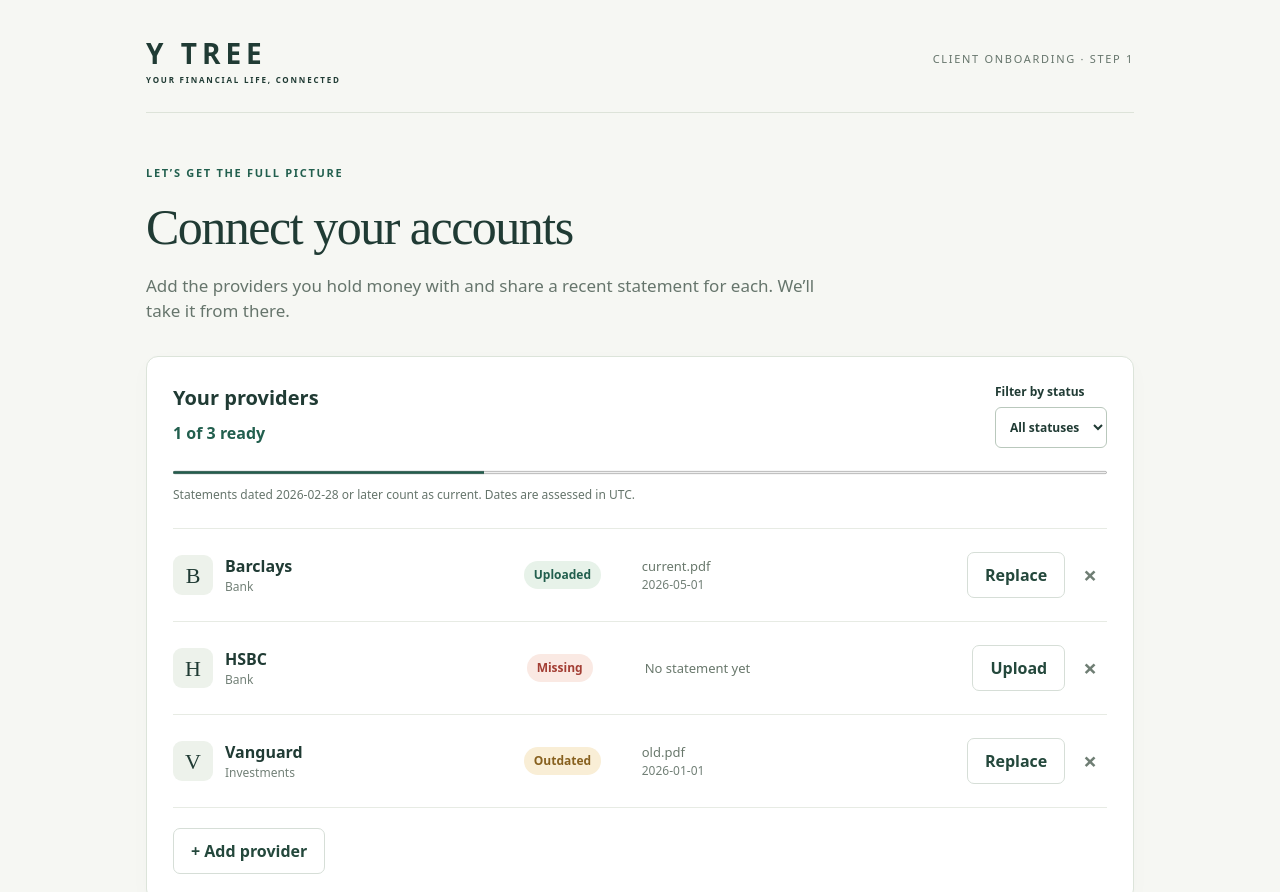
Test case: account workflow › shows readiness, filters statuses, and prevents incomplete submit
The width and height of the screenshot is (1280, 892).
Expected: the text "1 of 3 ready" is shown, [173, 422, 265, 444]
Select "Missing" in the dropdown labelled "Filter by status" at point(1051, 427), box [995, 406, 1107, 448]
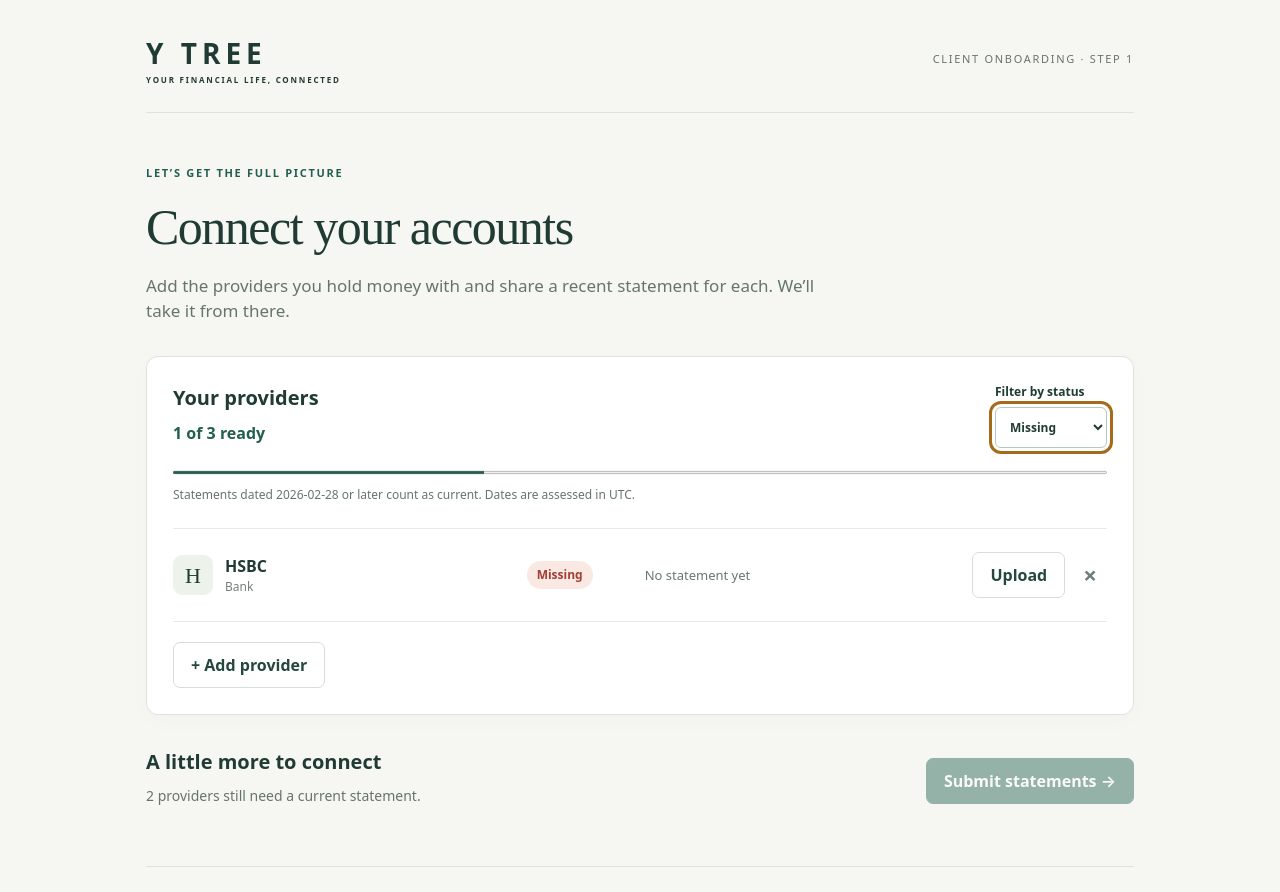
Expected: the heading "HSBC" is shown, [225, 554, 267, 578]
Result: the heading "Barclays" is gone
